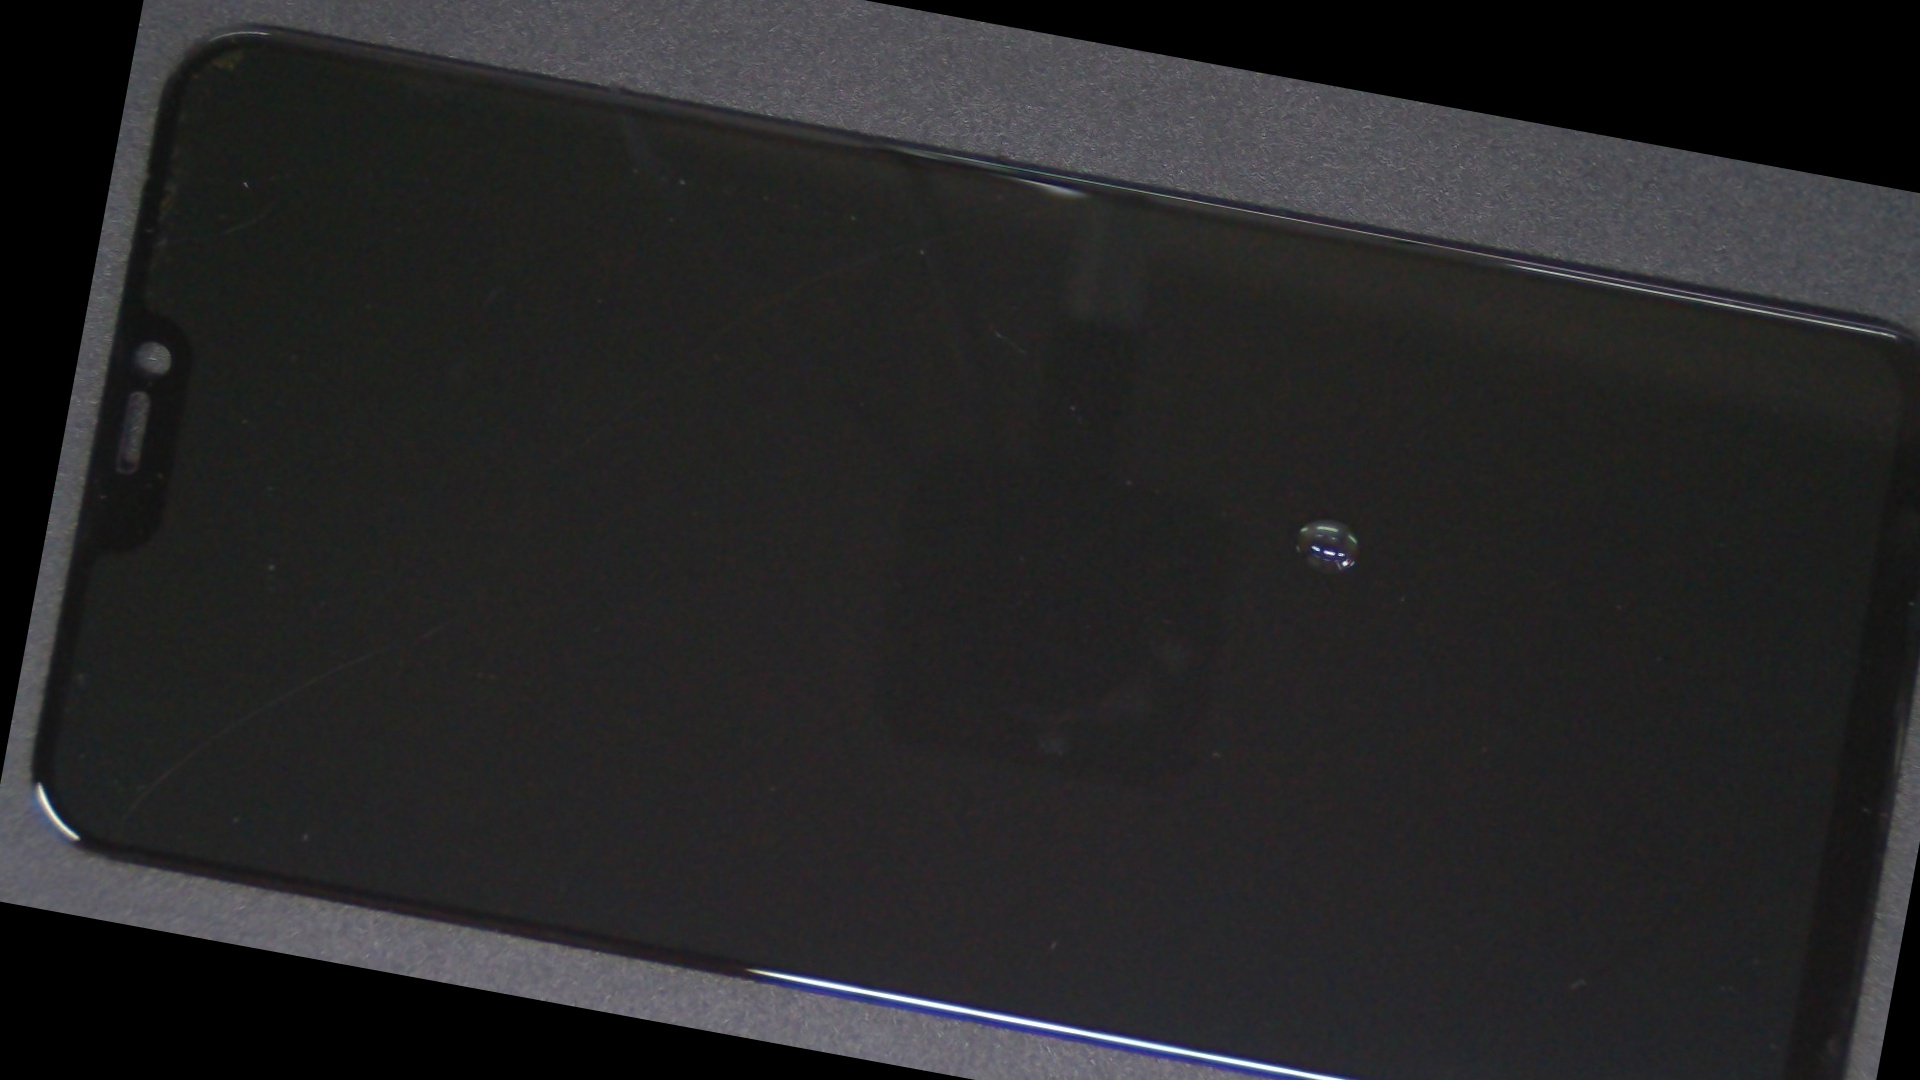oil: (674, 195, 1920, 843)
